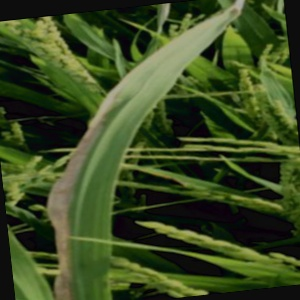Leaf_Blast: (49, 121, 126, 300)
